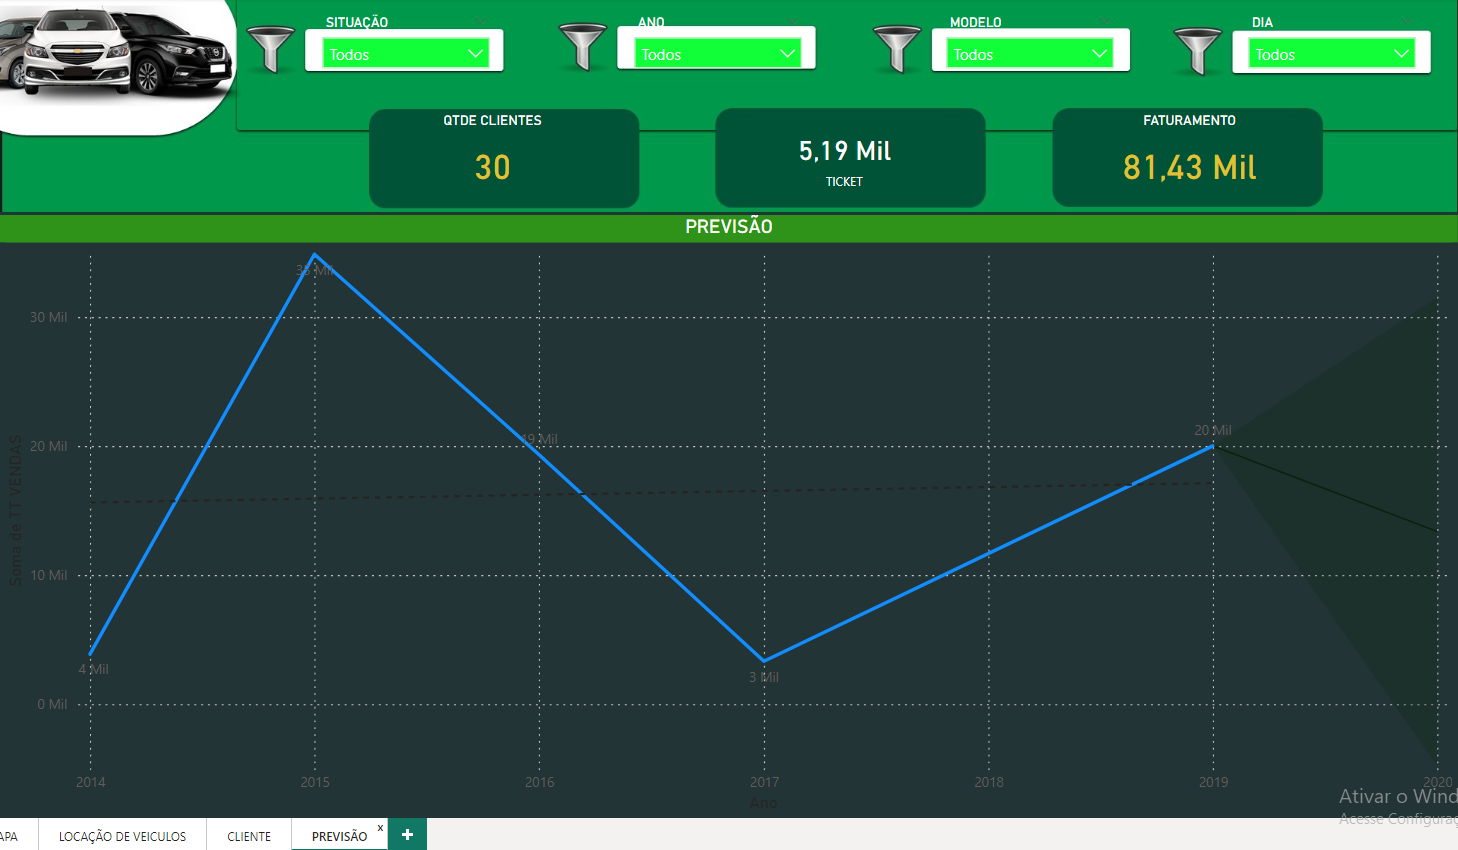

The page's visual inventory and layout, read from the dashboard file:
{"tool":"powerbi","page":{"name":"PREVISÃO","canvas":[1280,720],"ordinal":3},"visuals":[{"type":"slicer","fields":{"Values":["tb_km.SITUAÇÃO CADASTRAL"]},"box":[273.3,9.7,167.3,66.1],"z":0},{"type":"slicer","fields":{"Values":["tb_km.Ano"]},"box":[546.6,9.7,167.3,66.1],"z":1},{"type":"slicer","fields":{"Values":["tb_km.MODELO"]},"box":[820.9,9.7,167.3,66.1],"z":2},{"type":"slicer","fields":{"Values":["tb_km.Nome do Dia"]},"box":[1086.4,9.7,167.3,66.1],"z":3},{"type":"card","title":"FATURAMENTO","fields":{"Values":["Sum(tb_km.TOTAL VENDA)"]},"box":[930.8,100.2,227.6,79.8],"z":4},{"type":"card","title":"QTDE CLIENTES","fields":{"Values":["Count(tb_km.ID_CLIENTE)"]},"box":[319,100.2,227.6,79.8],"z":5},{"type":"card","fields":{"Values":["MEDIDAS.TICKET"]},"box":[662.4,100.2,158.5,80.7],"z":6},{"type":"lineChart","title":"PREVISÃO","fields":{"Category":["tb_km.DATA.Variation.Hierarquia de datas.Ano","tb_km.DATA.Variation.Hierarquia de datas.Trimestre","tb_km.DATA.Variation.Hierarquia de datas.Mês","tb_km.DATA.Variation.Hierarquia de datas.Dia"],"Y":["Sum(tb_km.TT VENDAS)"]},"box":[0,190.6,1280,529.1],"z":7}]}

Visuals, with their boxes on the page's 1280x720 design canvas (x1, y1, x2, y2). These are canvas units, not pixel positions in the 1458x850 screenshot, which may show the page scaled, cropped or inside an application window:
slicer - tb_km.SITUAÇÃO CADASTRAL: 273,10,441,76
slicer - tb_km.Ano: 547,10,714,76
slicer - tb_km.MODELO: 821,10,988,76
slicer - tb_km.Nome do Dia: 1086,10,1254,76
"FATURAMENTO" card: 931,100,1158,180
"QTDE CLIENTES" card: 319,100,547,180
card - MEDIDAS.TICKET: 662,100,821,181
"PREVISÃO" lineChart: 0,191,1280,720
